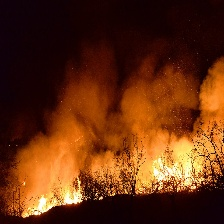fire: (15, 185, 91, 219), (145, 154, 201, 190)
smoke: (13, 61, 224, 160)
